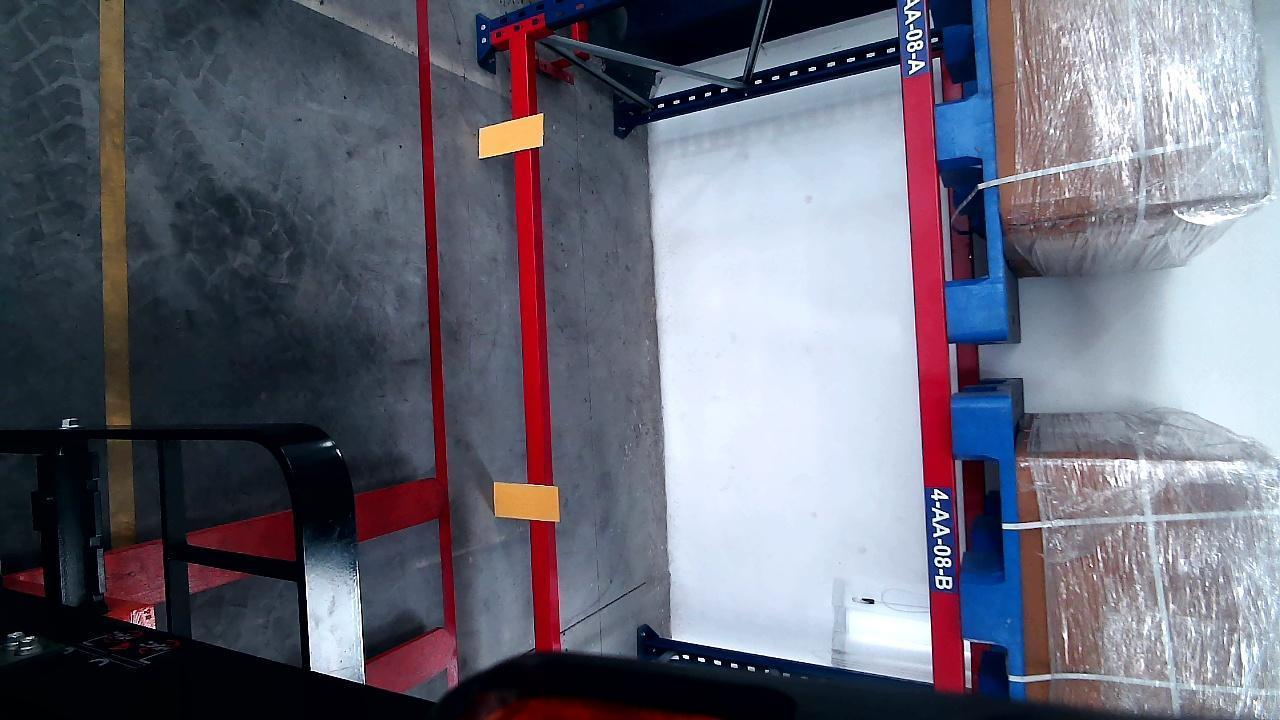h_rack: (508, 22, 558, 671)
orange_strip: (478, 114, 542, 157), (492, 481, 558, 522)
red_line: (417, 0, 450, 480)
small_pallet: (926, 0, 1007, 341), (955, 400, 1024, 694)
yellow_line: (99, 0, 132, 513)
